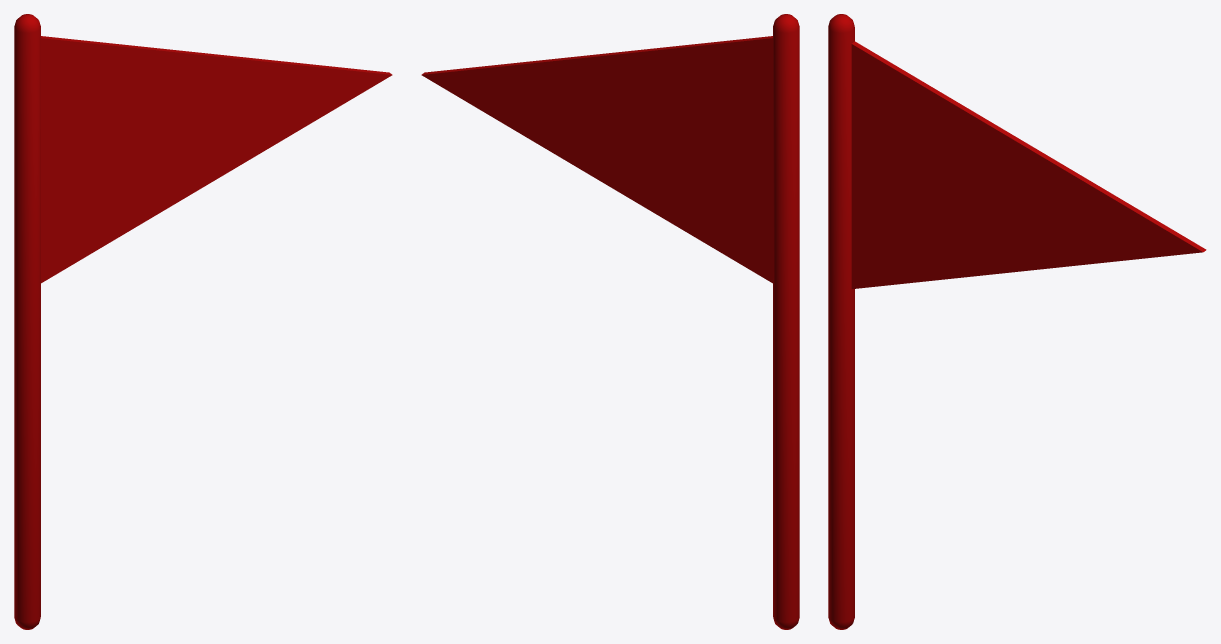
File: EndFlag.fbx
3 renders of one model, left to right at view 1: azimuth 30°, elevation 25°; view 2: azimuth 150°, elevation 25°; view 3: azimuth 330°, elevation 25°, orthographic.
Parts seen in each view (by area): view 1: 圆柱体; view 2: 圆柱体; view 3: 圆柱体.
Boxes of the visible parts, x1,y1,x2,y2 form: 圆柱体: (14, 14, 392, 629); 圆柱体: (421, 14, 799, 629); 圆柱体: (828, 14, 1206, 629).
Size of the model in its own units: 16 by 25 by 1.
